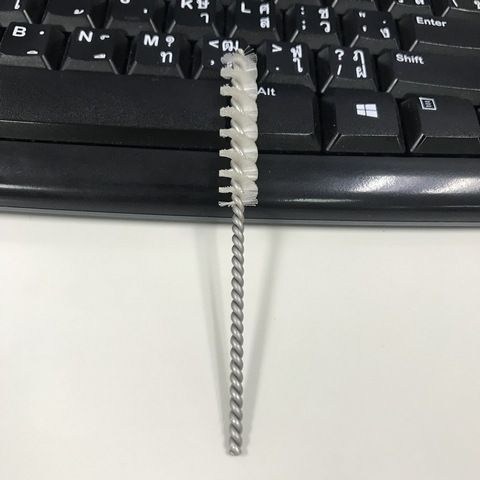Twist Brush-B: (217, 44, 258, 459)
